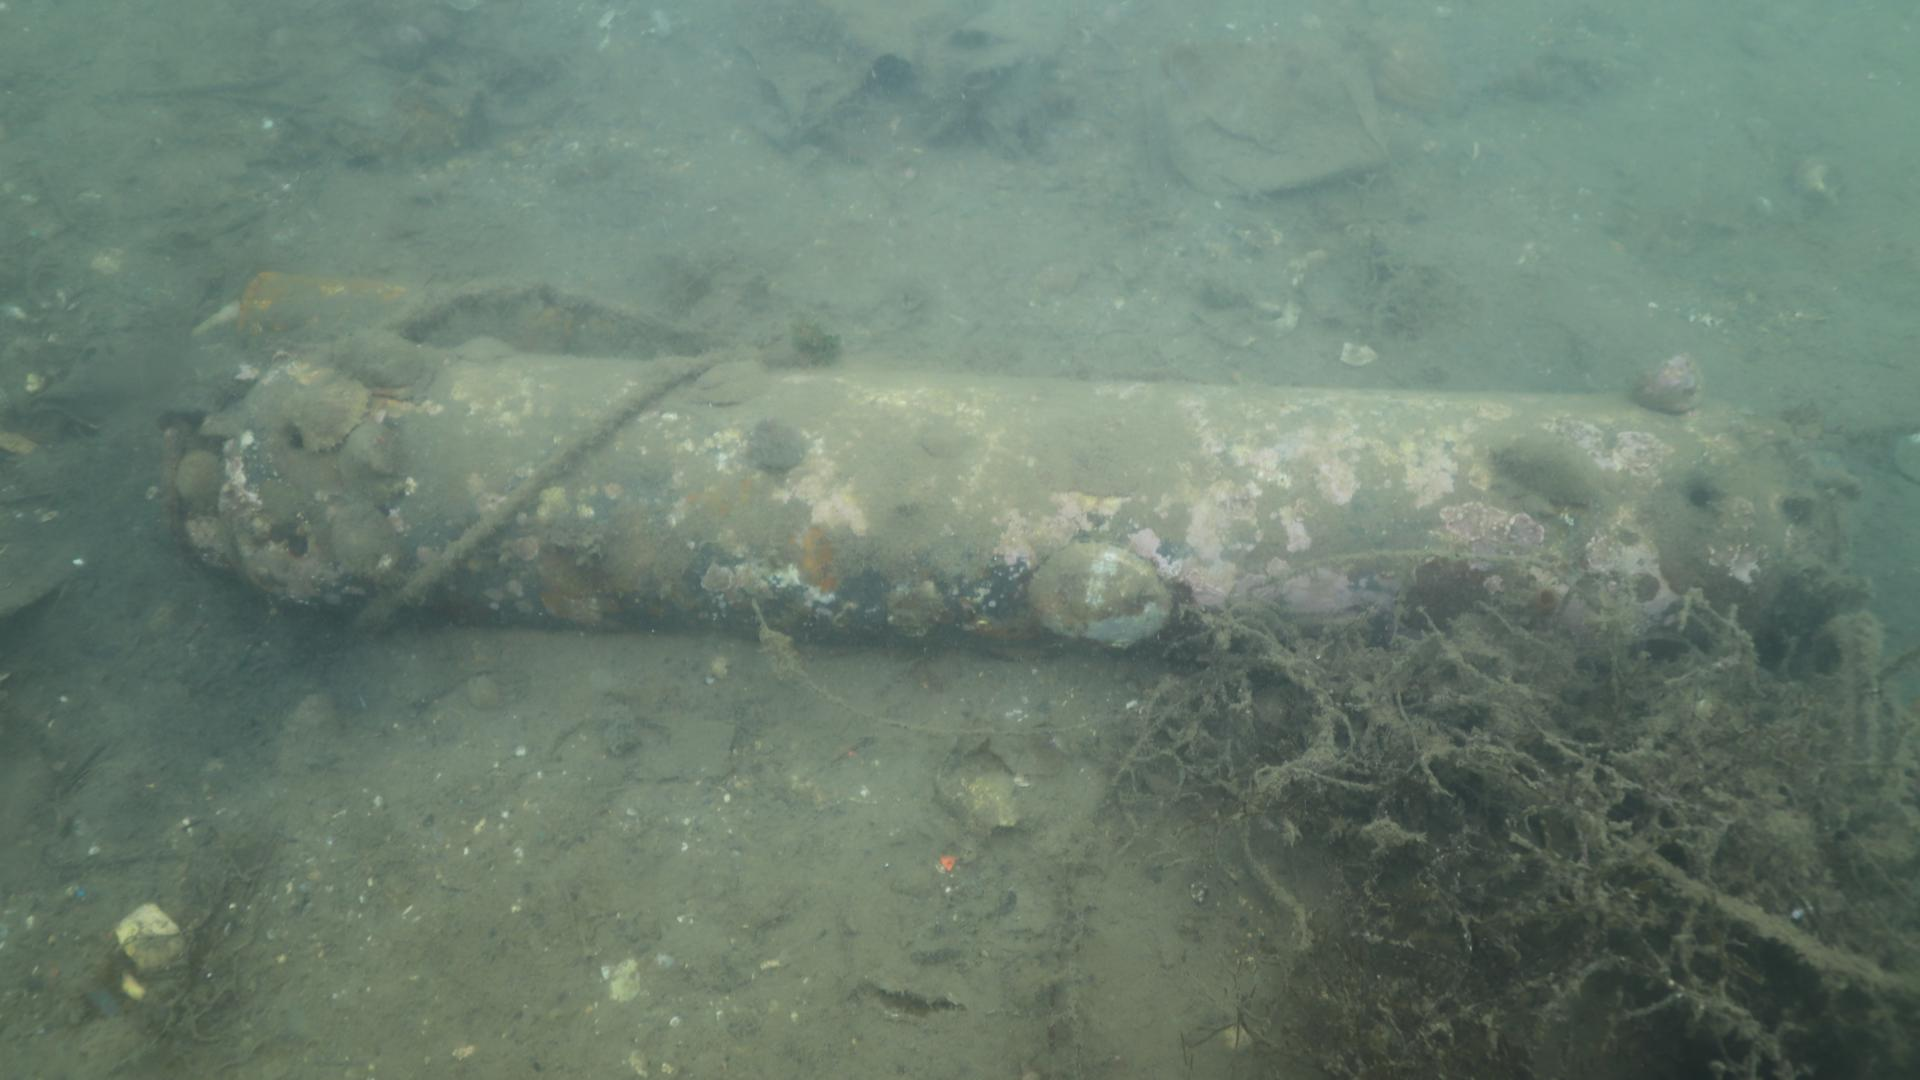eel fish trap: (171, 344, 1880, 650)
rope: (352, 352, 719, 634)
